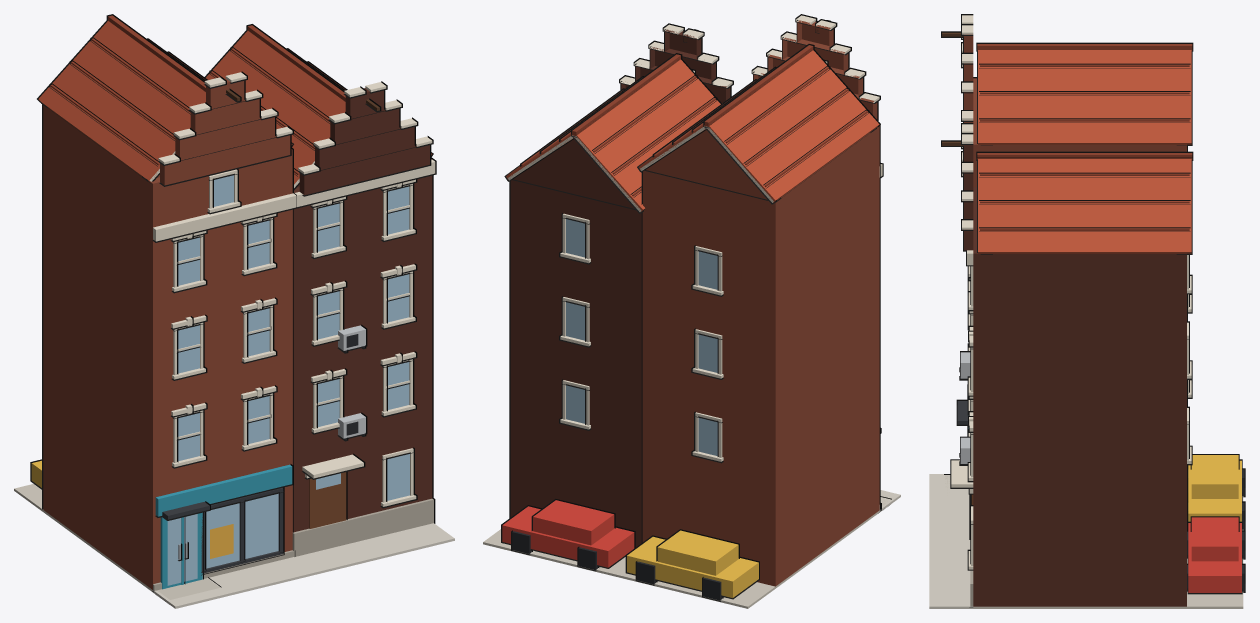
The model's file is Blok_duz_4k_3.fbx.
3 views of the same model, side by side, from view 1: azimuth 30°, elevation 25°; view 2: azimuth 150°, elevation 25°; view 3: azimuth 270°, elevation 25° (orthographic). The views are drawn at different scales.
Parts seen in each view (by area): view 1: Blok_duz_4k_3; view 2: Blok_duz_4k_3; view 3: Blok_duz_4k_3.
Part boxes in pixels (bbox=[...]): Blok_duz_4k_3: bbox=[14, 14, 454, 608]; Blok_duz_4k_3: bbox=[483, 14, 900, 608]; Blok_duz_4k_3: bbox=[929, 14, 1245, 608].
Size of the model in its own units: 10.26 by 17.16 by 10.07.
